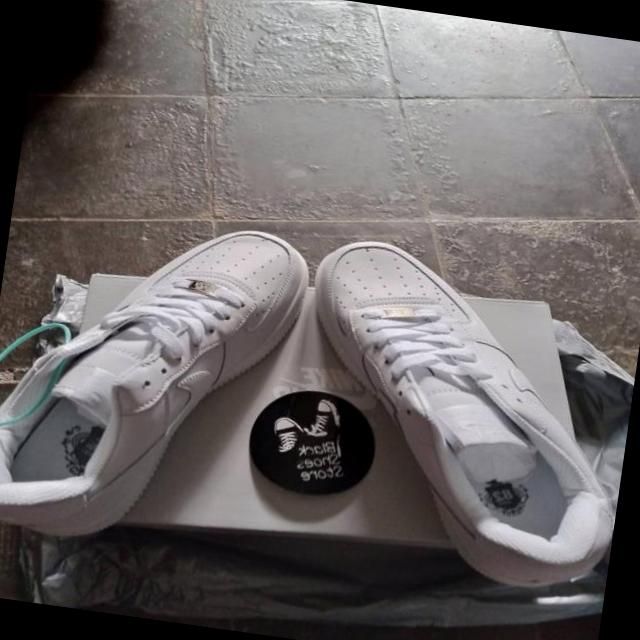nike_fake_airforce: (272, 231, 640, 601), (0, 196, 315, 563)
